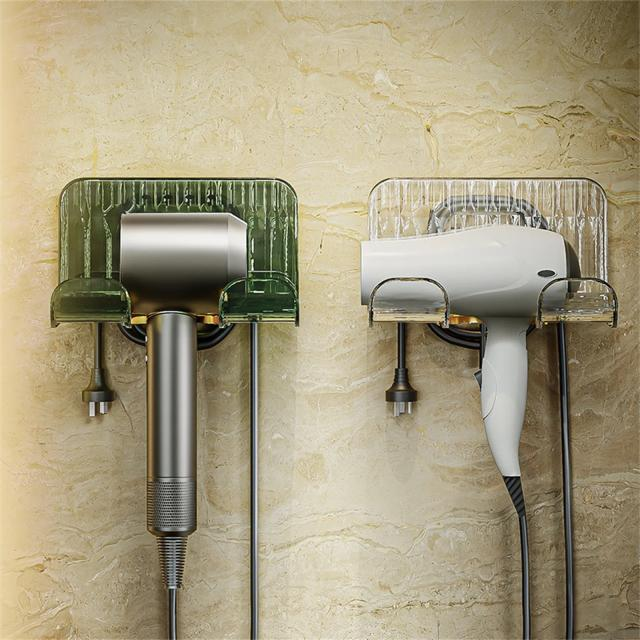dryer: (354, 207, 582, 625), (105, 196, 258, 613)
